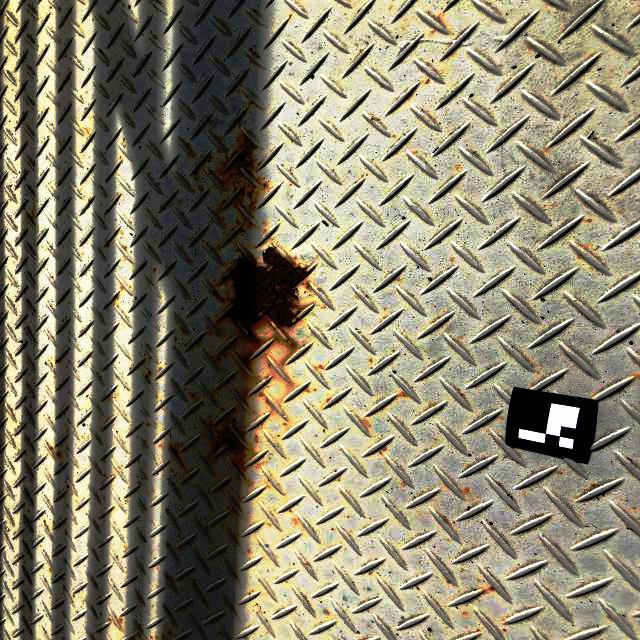Corrosion: (219, 247, 316, 358), (215, 135, 272, 212), (209, 415, 256, 470), (170, 448, 178, 454), (489, 586, 494, 592), (55, 452, 61, 456)
